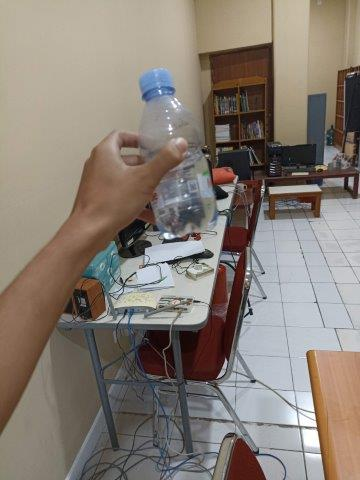botolplastik: (138, 68, 216, 239)
